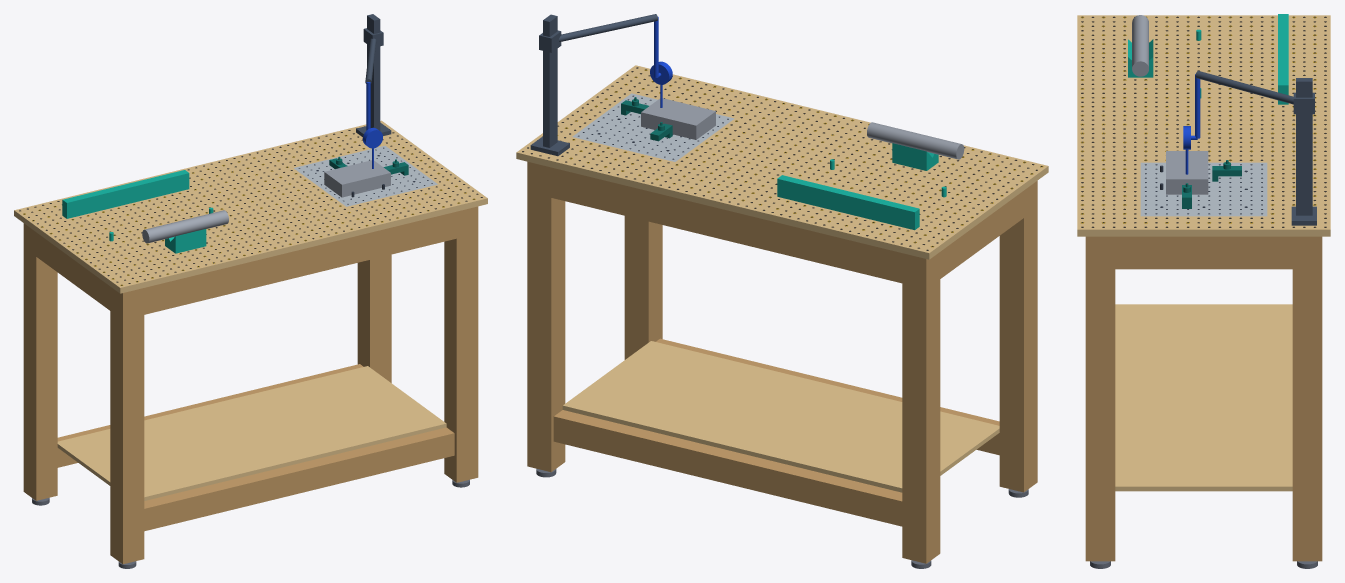
3 renders of one model, left to right at view 1: azimuth 30°, elevation 25°; view 2: azimuth 150°, elevation 25°; view 3: azimuth 270°, elevation 25°, orthographic. The views are drawn at different scales.
Visible parts, largest first — view 1: Bench frame, bolted timber, Plywood grid worktop (coarse field), Lower shelf, Printed fence, stops and V-block, Workpiece (example, not in BOM), Precision grid tile, aluminum, Pin holes, 6.6 mm, Instrument post and arm, M6 threaded inserts, 50 mm sub-grid, Dial indicator, 0.01 mm, Insert bores; view 2: Bench frame, bolted timber, Plywood grid worktop (coarse field), Lower shelf, Printed fence, stops and V-block, Workpiece (example, not in BOM), Precision grid tile, aluminum, Instrument post and arm, Pin holes, 6.6 mm, M6 threaded inserts, 50 mm sub-grid, Dial indicator, 0.01 mm, Insert bores; view 3: Plywood grid worktop (coarse field), Lower shelf, Bench frame, bolted timber, Precision grid tile, aluminum, Instrument post and arm, Pin holes, 6.6 mm, Workpiece (example, not in BOM), M6 threaded inserts, 50 mm sub-grid, Printed fence, stops and V-block, Insert bores, Dial indicator, 0.01 mm, Printed toe clamps (+1 smaller).
Part boxes in pixels (<box>): Bench frame, bolted timber: <box>23,206,478,564</box>; Plywood grid worktop (coarse field): <box>14,120,487,293</box>; Lower shelf: <box>57,366,446,500</box>; Printed fence, stops and V-block: <box>62,170,213,253</box>; Workpiece (example, not in BOM): <box>142,160,390,243</box>; Precision grid tile, aluminum: <box>294,145,437,206</box>; Pin holes, 6.6 mm: <box>19,126,482,283</box>; Instrument post and arm: <box>356,14,391,137</box>; M6 threaded inserts, 50 mm sub-grid: <box>23,135,475,285</box>; Dial indicator, 0.01 mm: <box>362,82,382,168</box>; Insert bores: <box>24,135,474,285</box>; Bench frame, bolted timber: <box>527,161,1037,563</box>; Plywood grid worktop (coarse field): <box>516,65,1048,259</box>; Lower shelf: <box>562,341,999,492</box>; Printed fence, stops and V-block: <box>777,143,946,230</box>; Workpiece (example, not in BOM): <box>641,98,964,159</box>; Precision grid tile, aluminum: <box>572,93,734,161</box>; Instrument post and arm: <box>530,14,657,156</box>; Pin holes, 6.6 mm: <box>522,67,1037,250</box>; M6 threaded inserts, 50 mm sub-grid: <box>557,69,1043,247</box>; Dial indicator, 0.01 mm: <box>650,17,672,107</box>; Insert bores: <box>566,69,1042,246</box>; Plywood grid worktop (coarse field): <box>1077,15,1330,236</box>; Lower shelf: <box>1115,304,1292,491</box>; Bench frame, bolted timber: <box>1085,236,1322,561</box>; Precision grid tile, aluminum: <box>1140,162,1267,216</box>; Instrument post and arm: <box>1195,71,1316,225</box>; Pin holes, 6.6 mm: <box>1081,16,1326,227</box>; Workpiece (example, not in BOM): <box>1132,15,1208,194</box>; M6 threaded inserts, 50 mm sub-grid: <box>1080,16,1316,223</box>; Printed fence, stops and V-block: <box>1128,14,1288,104</box>; Insert bores: <box>1081,16,1315,222</box>; Dial indicator, 0.01 mm: <box>1183,74,1200,174</box>; Printed toe clamps: <box>1182,160,1241,208</box>.
Bounding box in the file's own units: 1.2 × 1.26 × 0.6.
